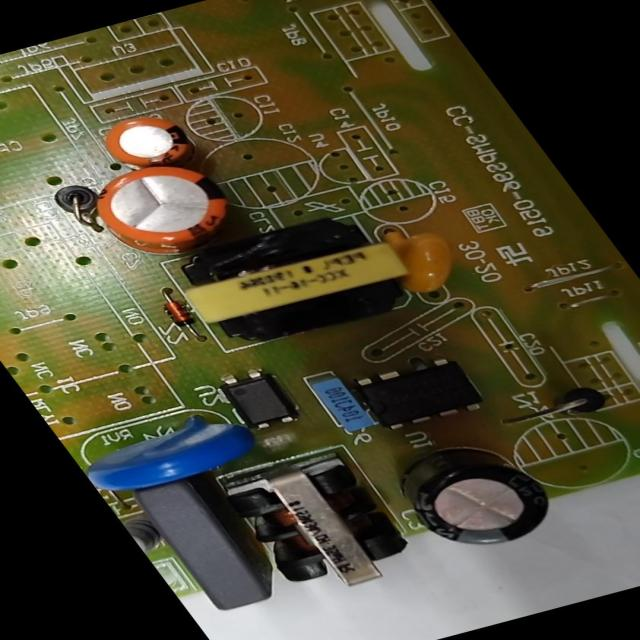Cap1: (77, 154, 252, 260)
Cap2: (90, 109, 198, 172)
Cap3: (383, 436, 567, 560)
MOSFET: (351, 356, 487, 432)
Mov: (71, 414, 260, 501)
Resistor: (121, 514, 169, 554)
Transformer: (156, 204, 432, 347), (216, 454, 424, 599)
